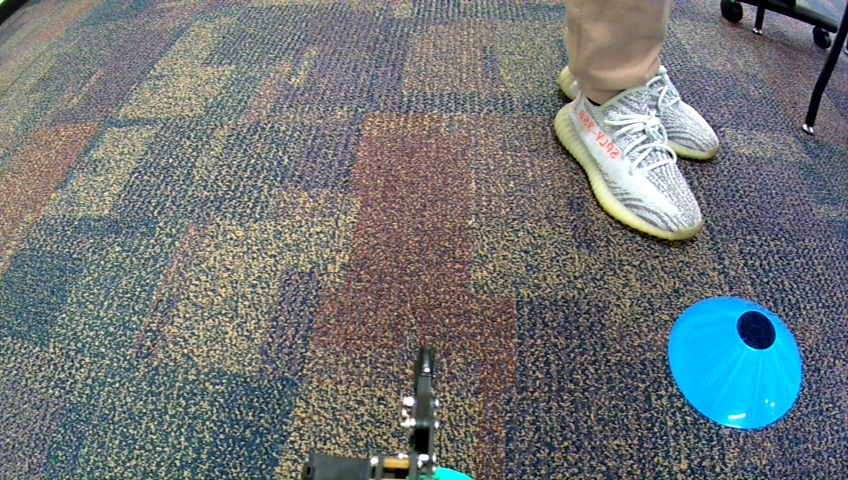cone: (667, 295, 804, 431)
